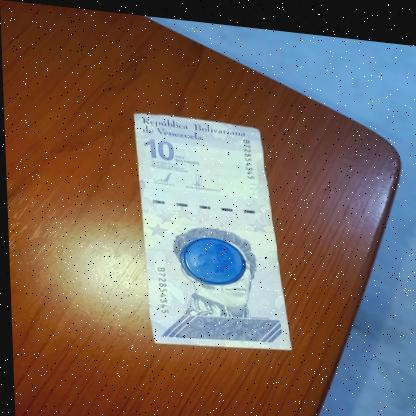ten-front-vef: (135, 100, 294, 344)
